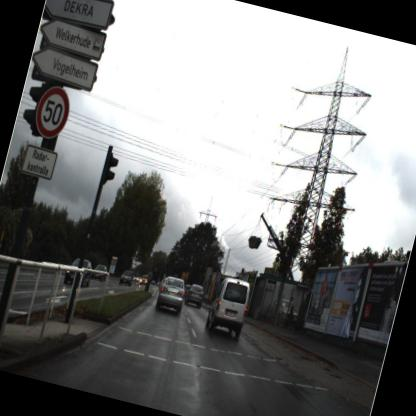prohibitory: (26, 80, 78, 147)
